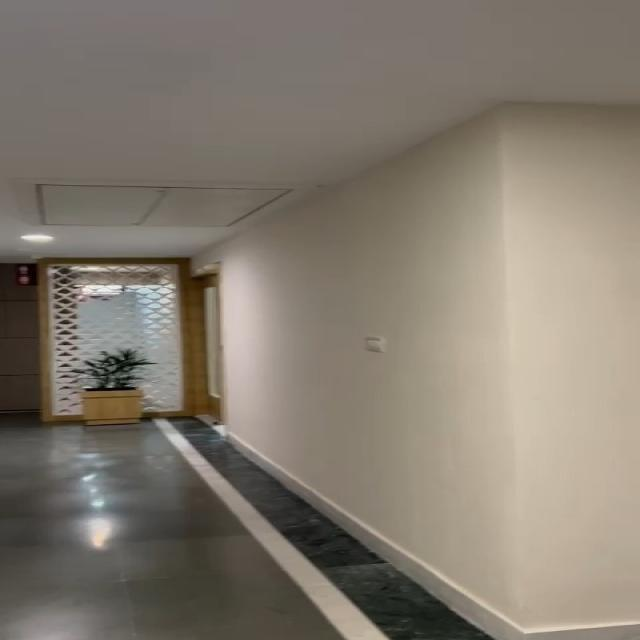floor: (8, 433, 231, 640)
furniture: (75, 354, 157, 432)
wall: (234, 228, 640, 444)
